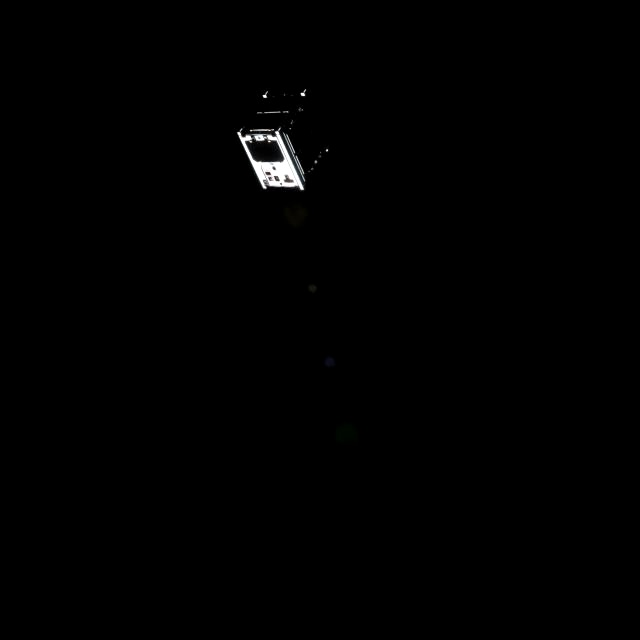satellite: (235, 84, 337, 192)
